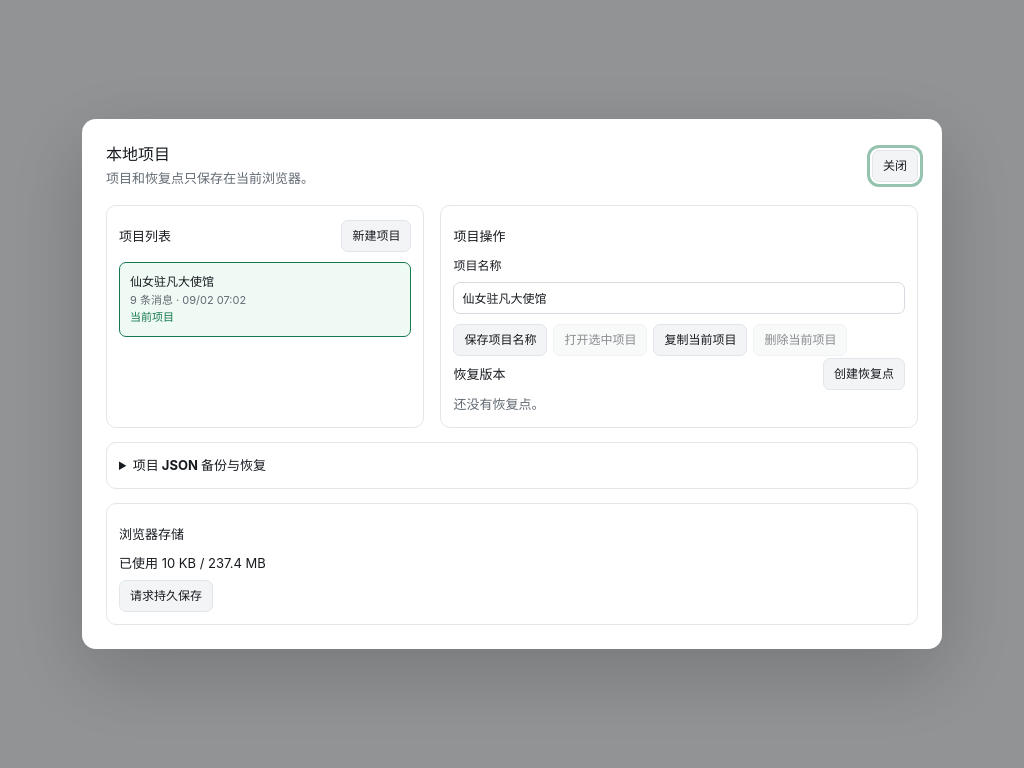
Test: ProjectManagerDialog › manages distinct local projects without presenting the productivity-tool tabs
Expected: the dialog "本地项目" is shown, [82,119,942,649]
Expected: the text "仙女驻凡大使馆" is shown, [130,274,214,289]
Click the button "新建项目".
click(376, 236)  # box [341,220,411,252]
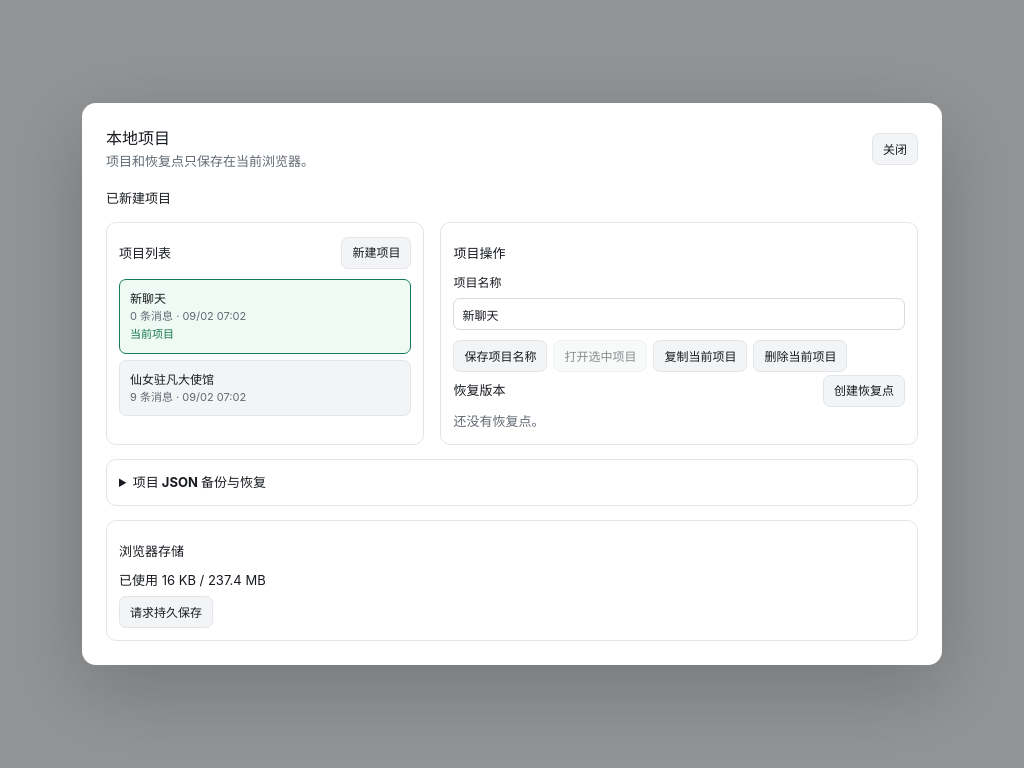
Expected: the text "当前项目" is shown, [130,327,174,341]
Expected: the text "已新建项目" is shown, [106,190,171,206]
Expected: the text "新聊天" is shown, [130,291,166,306]
Replace the text in the field labelled "项目名称" with "旅行聊天" at (679, 314), box [453,298,905,330]
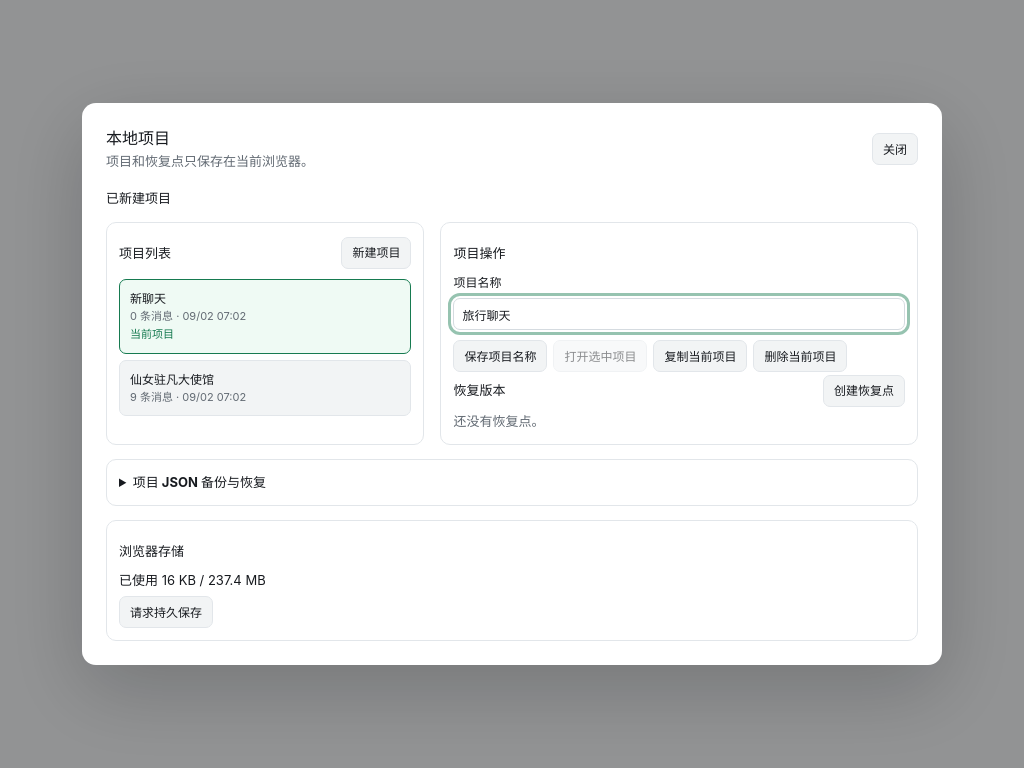
Click the button "保存项目名称".
click(500, 356)  # box [453,340,547,372]
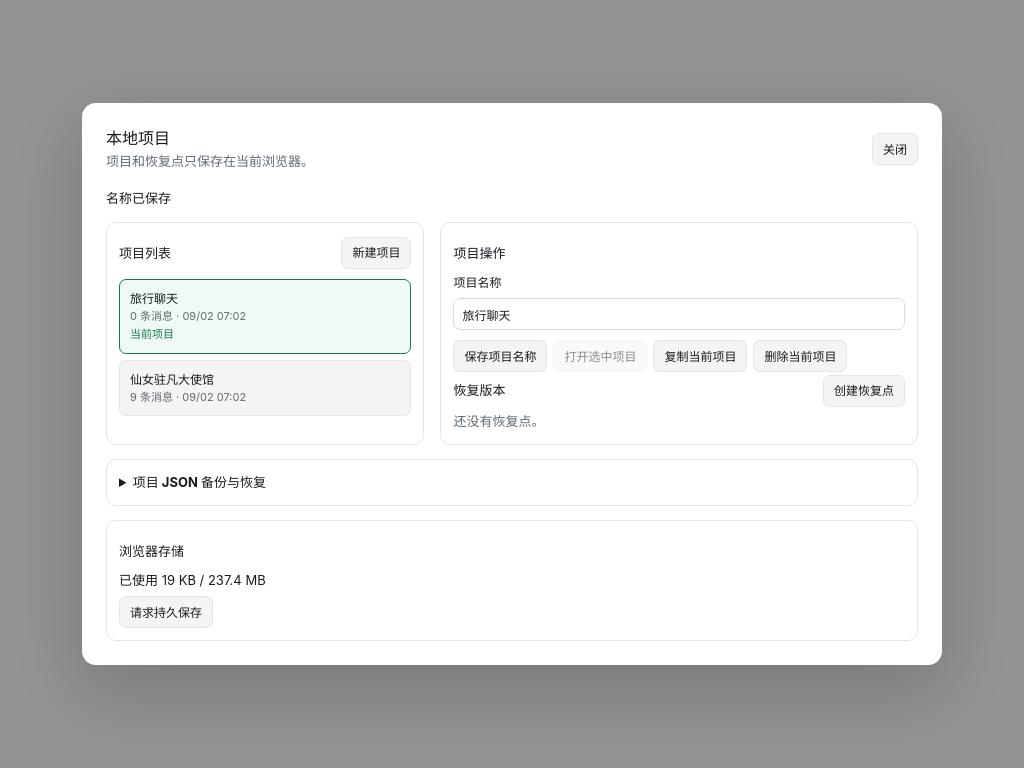
Expected: the text "旅行聊天" is shown, [130,291,178,306]
Click the button "复制当前项目".
click(700, 356)  # box [653,340,747,372]
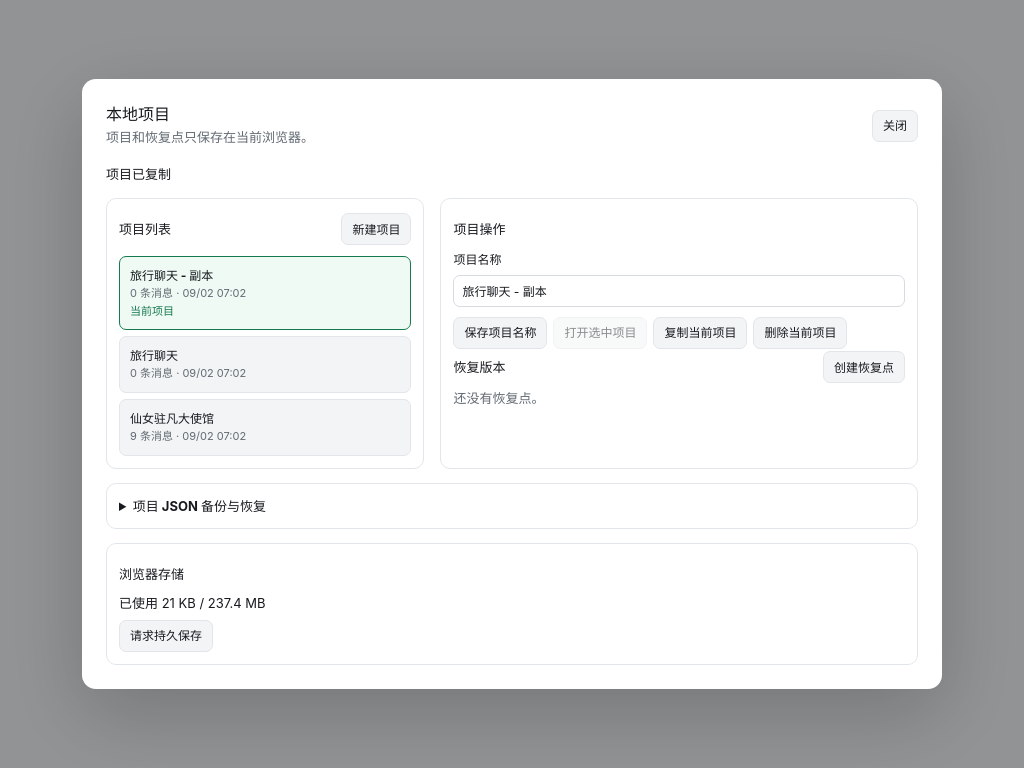
Expected: the number of buttons named "选择项目" is 3, [119,256,411,330]; [119,336,411,393]; [119,399,411,456]
Expected: the text "旅行聊天 - 副本" is shown, [130,268,213,283]
